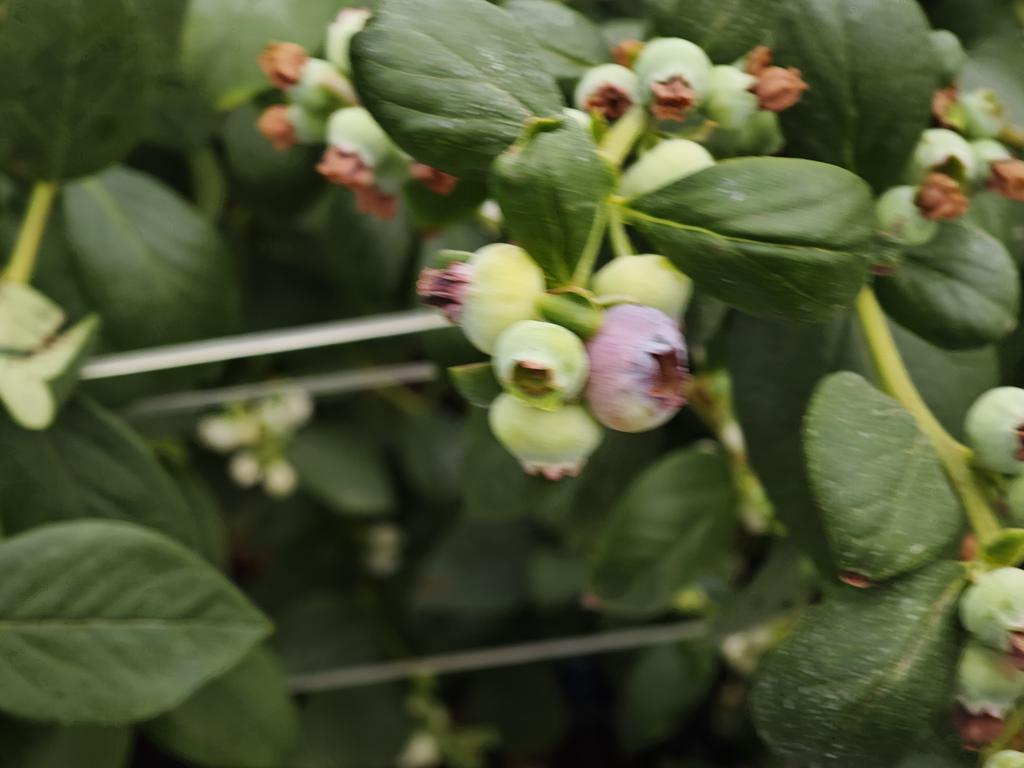Semi-RipeBlueBerry: (588, 302, 694, 437)
UnripeBlueBerry: (446, 240, 545, 356), (481, 397, 605, 480), (488, 317, 588, 410)
